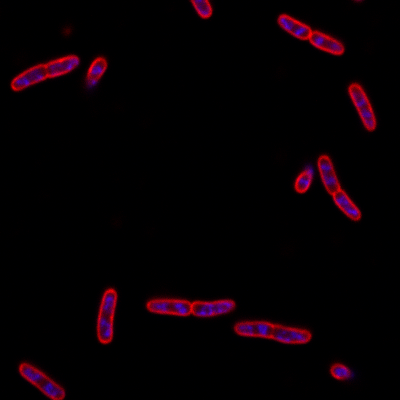Control: (275, 12, 347, 57), (317, 152, 362, 222), (10, 53, 80, 91), (233, 319, 315, 345), (145, 295, 236, 316), (19, 361, 66, 400), (345, 83, 377, 132), (94, 286, 118, 345)
Oblique: (85, 54, 108, 94), (293, 161, 317, 194), (328, 362, 357, 382)
